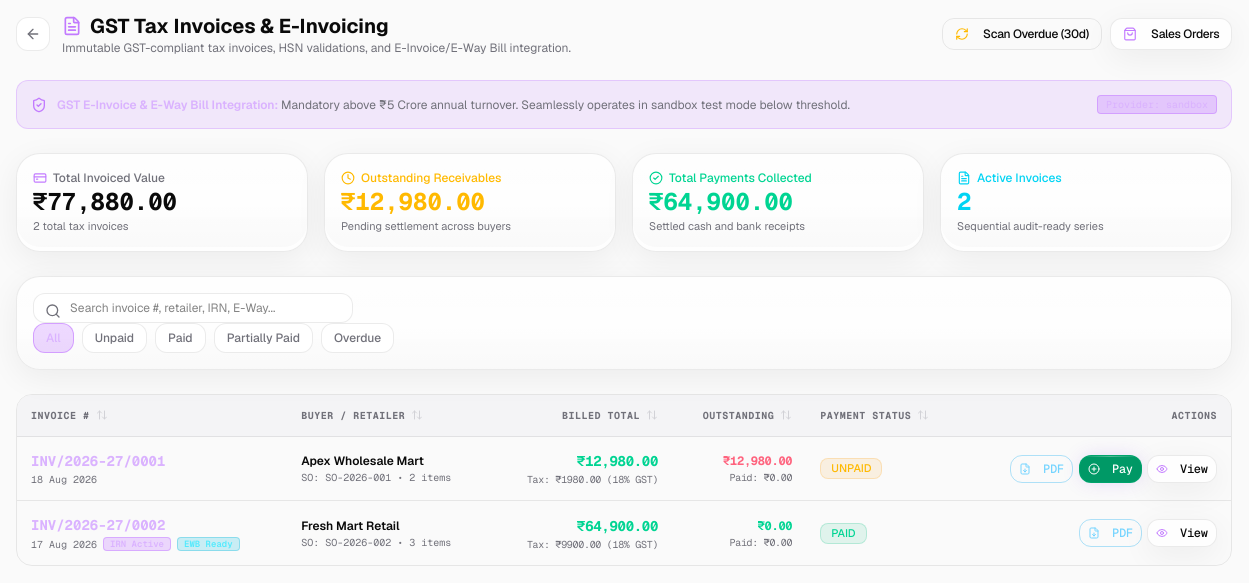
it: GST Invoices & Billing UI › filters invoices by status tabs
This screenshot has width=1249, height=583.
Note: Click paid filter button
Click the button with test id "filter-paid": (180, 338) [155, 323, 206, 353]
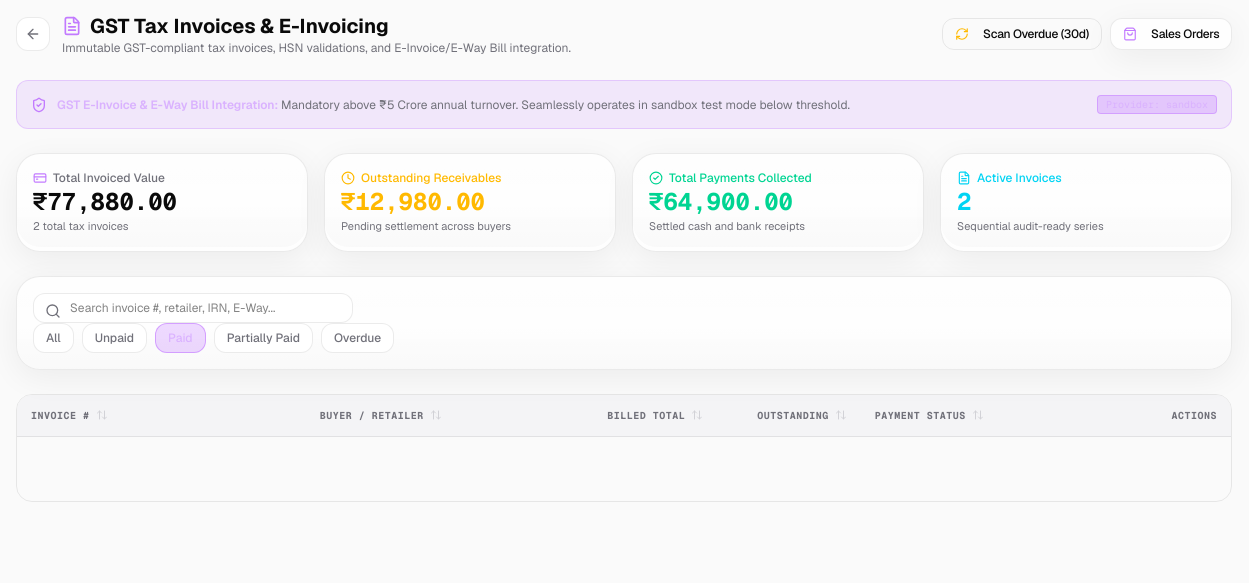
Expected: the text "Apex Wholesale Mart" is gone
